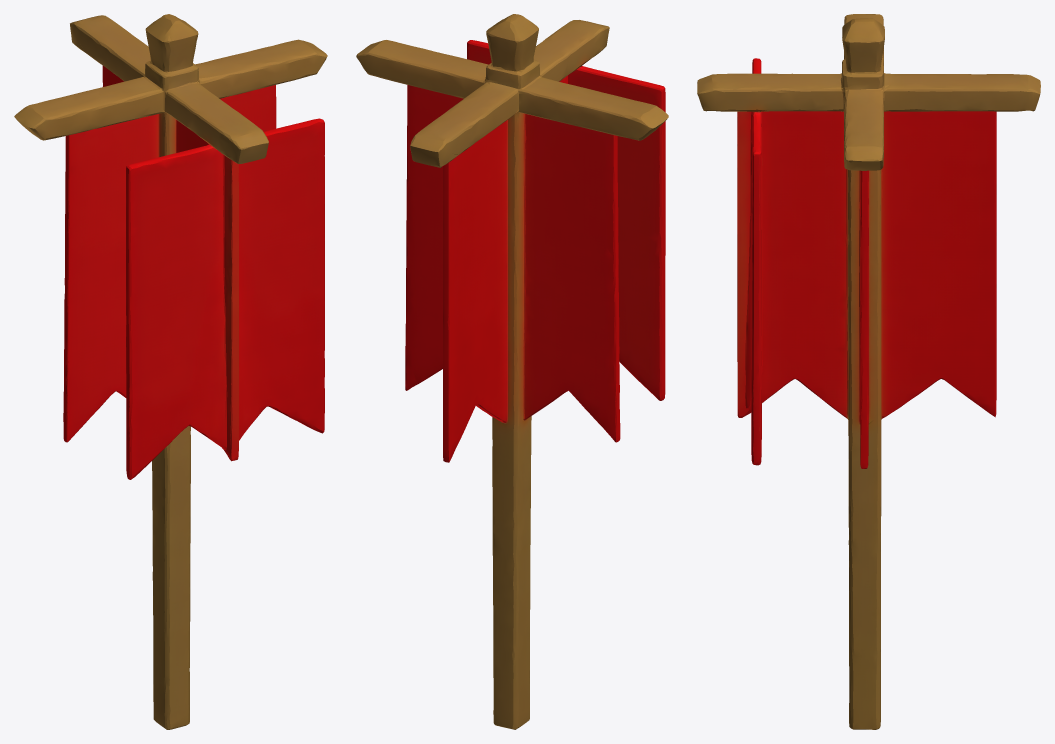
Rendered from flag.fbx.
The picture shows the model from 3 angles, left to right: view 1: azimuth 30°, elevation 25°; view 2: azimuth 150°, elevation 25°; view 3: azimuth 270°, elevation 25°; orthographic projection.
Visible parts, largest first — view 1: model; view 2: model; view 3: model.
Boxes of the visible parts, x1,y1,x2,y2 form: model: (14, 14, 327, 729); model: (356, 14, 668, 729); model: (697, 14, 1040, 729).
Size of the model in its own units: 84.65 by 191 by 84.28.
1 material, 1 textured.
